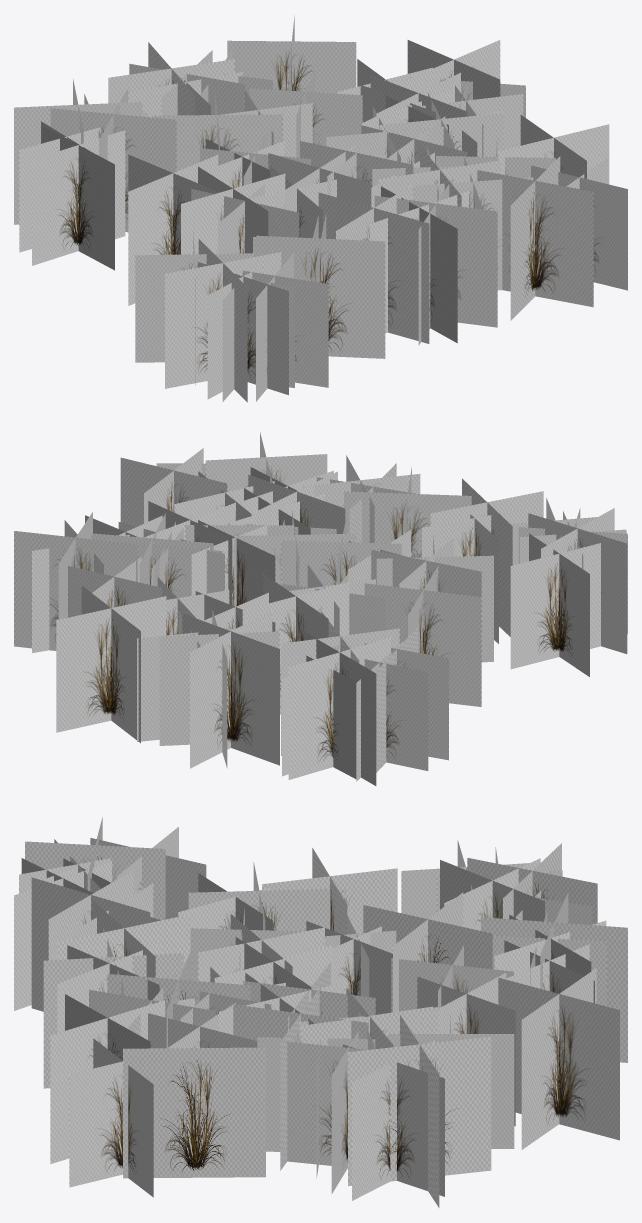
3 renders of one model, top to bottom at view 1: azimuth 30°, elevation 25°; view 2: azimuth 150°, elevation 25°; view 3: azimuth 270°, elevation 25°, orthographic. The views are drawn at different scales.
Parts seen in each view (by area): view 1: red-baron-grass-ornamental-Va7qqJC-600.001_red-baron-grass-o, red-baron-grass-ornamental-Va7qqJC-600_red-baron-grass-ornam; view 2: red-baron-grass-ornamental-Va7qqJC-600_red-baron-grass-ornam, red-baron-grass-ornamental-Va7qqJC-600.001_red-baron-grass-o; view 3: red-baron-grass-ornamental-Va7qqJC-600_red-baron-grass-ornam, red-baron-grass-ornamental-Va7qqJC-600.001_red-baron-grass-o.
Part boxes in pixels (x1,y1,x2,y2): red-baron-grass-ornamental-Va7qqJC-600.001_red-baron-grass-o: [14, 40, 627, 401]; red-baron-grass-ornamental-Va7qqJC-600_red-baron-grass-ornam: [19, 15, 609, 402]; red-baron-grass-ornamental-Va7qqJC-600_red-baron-grass-ornam: [56, 432, 627, 779]; red-baron-grass-ornamental-Va7qqJC-600.001_red-baron-grass-o: [14, 448, 627, 785]; red-baron-grass-ornamental-Va7qqJC-600_red-baron-grass-ornam: [14, 838, 619, 1200]; red-baron-grass-ornamental-Va7qqJC-600.001_red-baron-grass-o: [19, 817, 627, 1207].
Bounding box in the file's own units: 4.91 × 1.17 × 4.82.
Materials: 1 (1 with a texture image).
